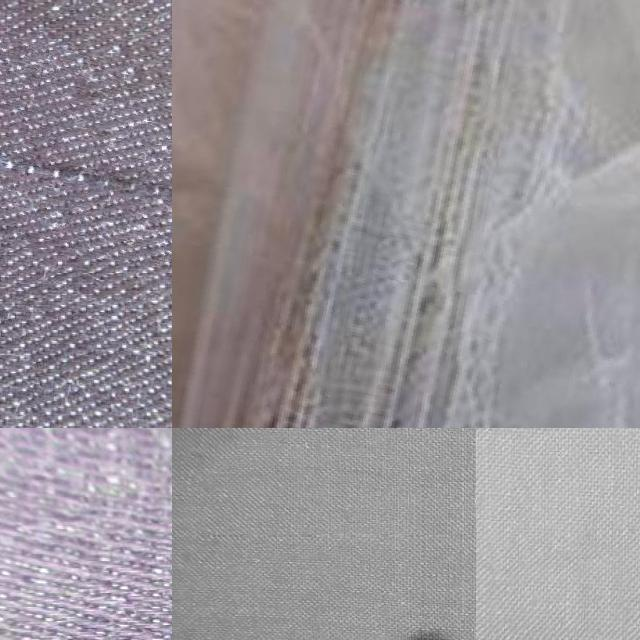Thread_other: (342, 607, 475, 640), (172, 609, 265, 640)
stains: (172, 0, 640, 428), (0, 16, 172, 259)
